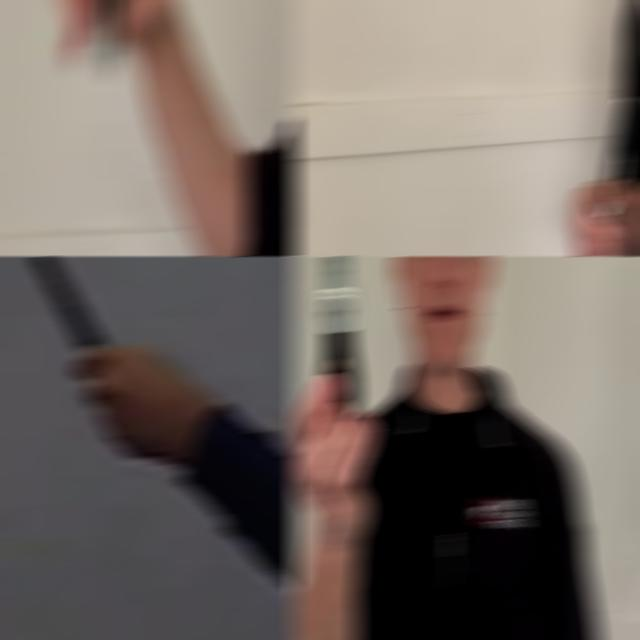Knife: (14, 256, 110, 354)
Knife_Handle: (13, 256, 188, 460), (290, 256, 378, 540), (46, 0, 179, 80), (570, 96, 631, 256)
